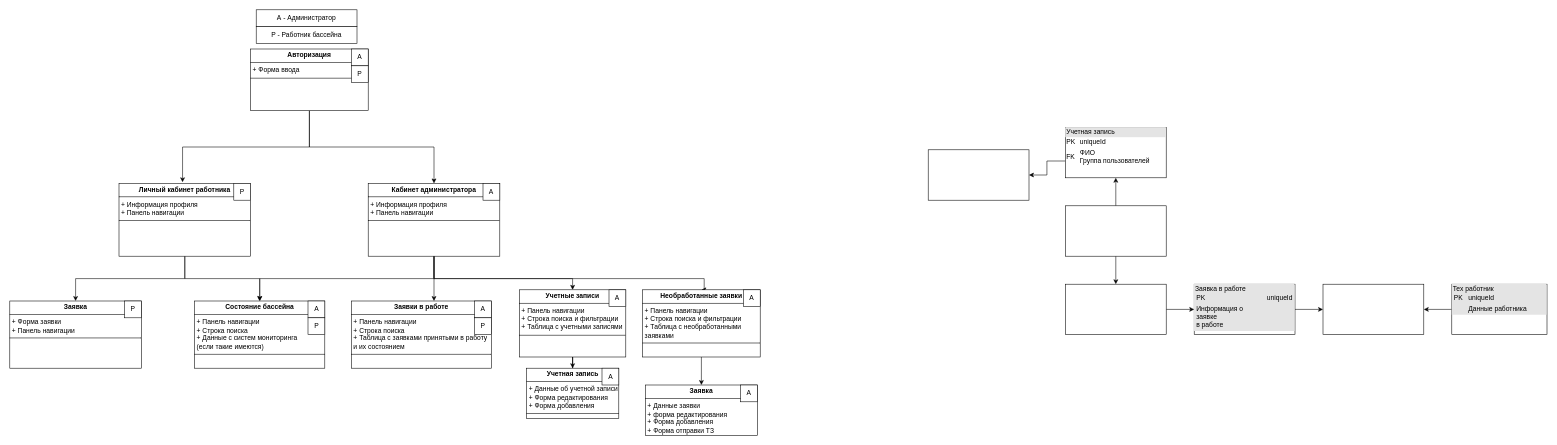
Some shapes in this 1557 by 445 pixel diagram are drawn without their labels. The centre of each missing label's shape, as x and y in pixels:
"Группа пользователей PK uniqueId Название" goes at point 978,174.
"Заявка PK uniqueId FK Данные заявки" goes at point 1115,309.
"Связь Работник бассейна-Заявка PK, FK ID Заявки PK, FK ID Работника" goes at point 1115,230.
"Связь Работник-Заявка PK, FK ID Заявки PK, FK ID Тех работника" goes at point 1373,309.
